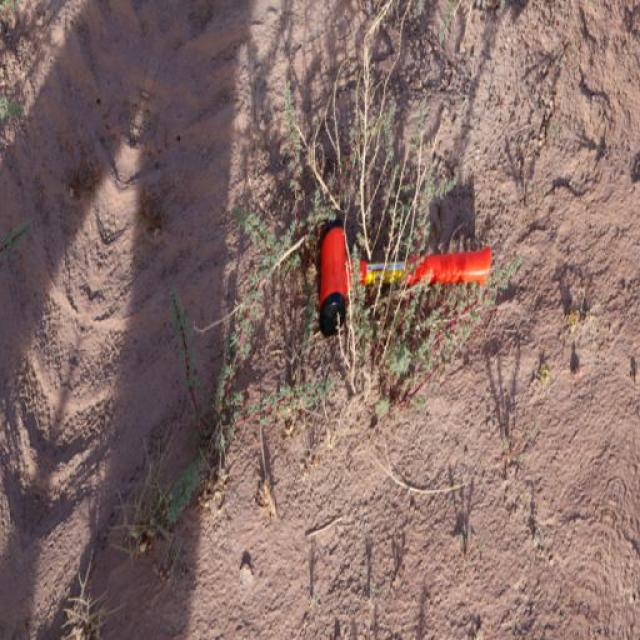mallet: (314, 216, 494, 336)
